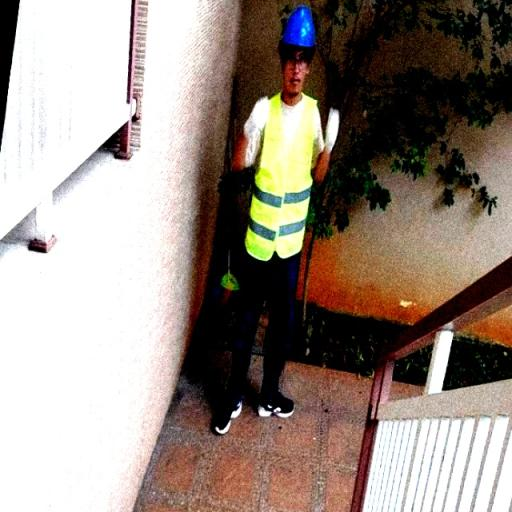Person: (186, 0, 348, 449)
boots: (207, 394, 246, 434), (258, 388, 297, 421)
gloves: (321, 103, 348, 156), (244, 93, 272, 139)
helmet: (276, 6, 322, 47)
vest: (239, 90, 322, 263)
